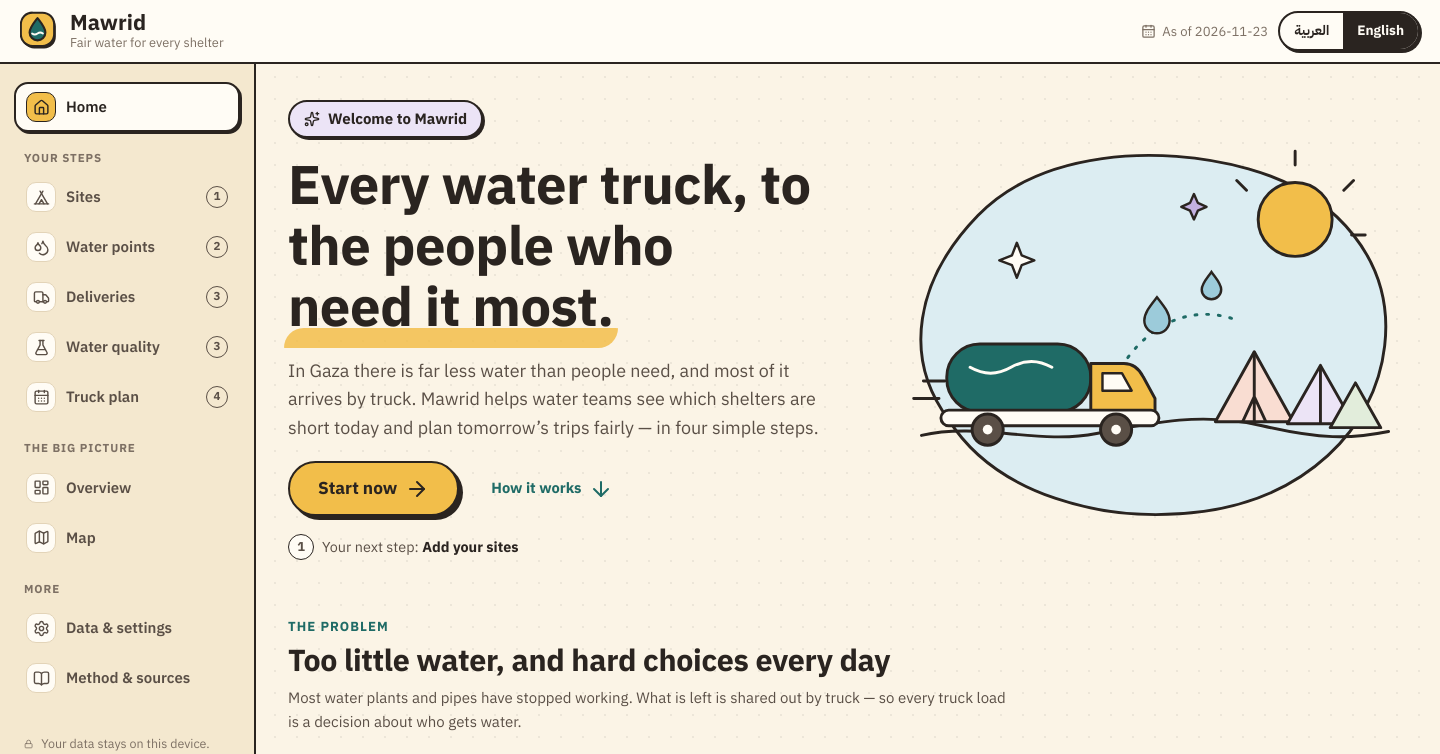
welcome page and guided steps › explains the project and sends a new user to step 1
Expected: the heading "Every water truck, to the people who need it most." is shown, [288, 156, 870, 339]
Expected: the heading "Too little water, and hard choices every day" is shown, [288, 638, 890, 684]
Click the link "Start now".
click(374, 489)  # box [288, 461, 459, 516]
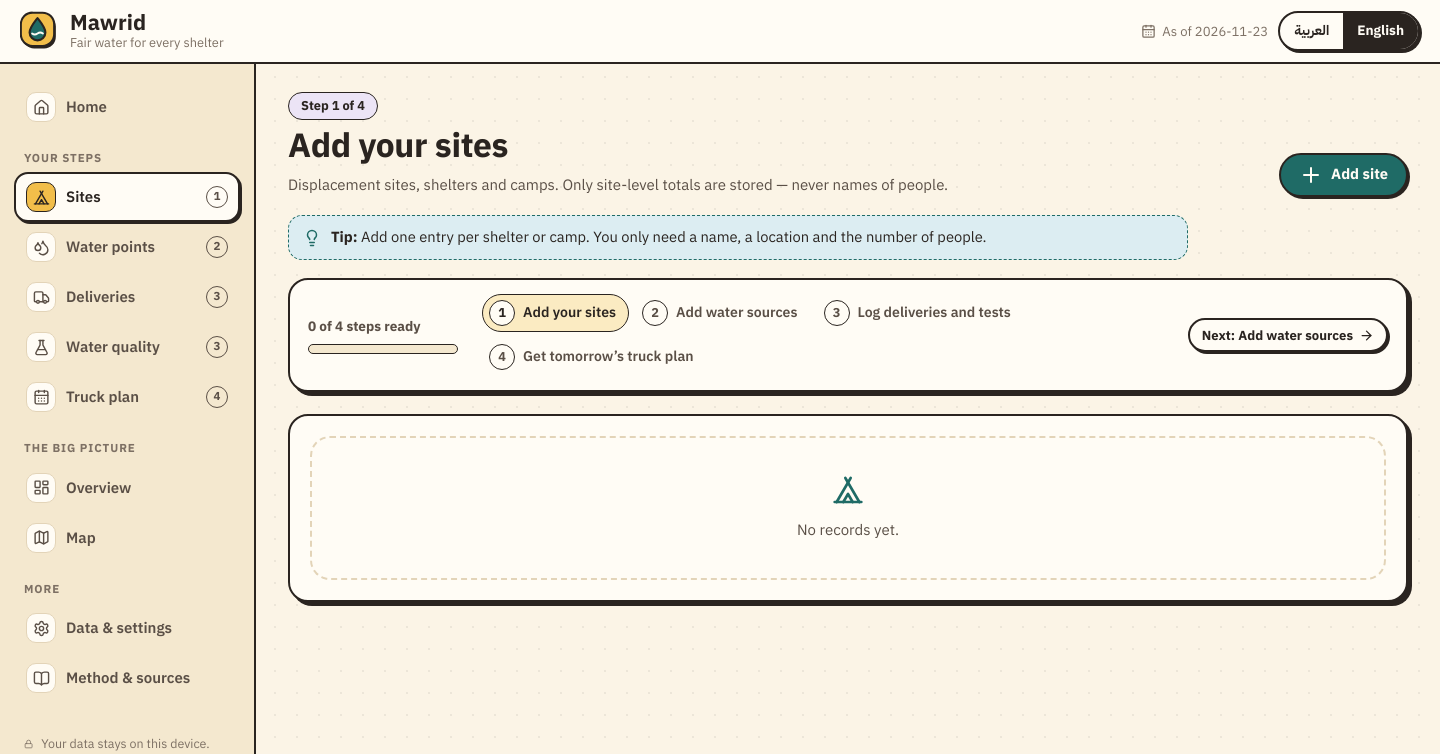
Expected: the heading "Add your sites" is shown, [288, 122, 508, 172]
Expected: the text "Step 1 of 4" is shown, [288, 92, 378, 120]
Expected: the link "1 Add your sites" is shown, [482, 294, 629, 332]
